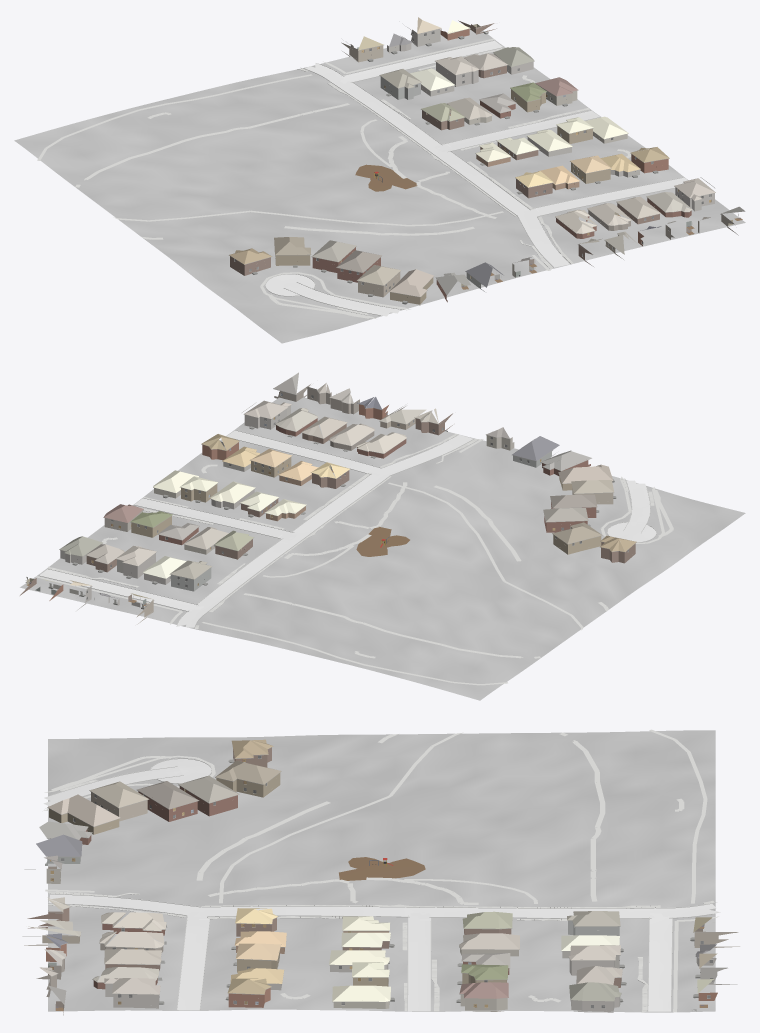
3 views of the same model, one above another, from view 1: azimuth 30°, elevation 25°; view 2: azimuth 150°, elevation 25°; view 3: azimuth 270°, elevation 25° (orthographic). The views are drawn at different scales.
Visible parts, largest first — view 1: ground, roof, concrete, walk, wall, detail, wall_stone, wall_stucco, curb; view 2: ground, roof, concrete, wall, walk, detail, wall_stucco, curb, wall_stone; view 3: ground, roof, concrete, walk, wall, detail, wall_stucco, curb, wall_stone.
Boxes of the visible parts, left/top/right/bottom form: ground: left=14, top=29, right=745, bottom=343; roof: left=229, top=17, right=745, bottom=296; concrete: left=265, top=40, right=687, bottom=316; walk: left=37, top=38, right=631, bottom=318; wall: left=230, top=20, right=738, bottom=305; detail: left=229, top=25, right=738, bottom=304; wall_stone: left=387, top=29, right=714, bottom=211; wall_stucco: left=341, top=42, right=627, bottom=297; curb: left=265, top=40, right=684, bottom=315; ground: left=20, top=397, right=745, bottom=700; roof: left=43, top=372, right=636, bottom=599; concrete: left=39, top=430, right=656, bottom=627; wall: left=20, top=384, right=635, bottom=600; walk: left=35, top=433, right=673, bottom=685; detail: left=25, top=386, right=636, bottom=609; wall_stucco: left=104, top=435, right=613, bottom=624; curb: left=38, top=430, right=656, bottom=628; wall_stone: left=60, top=405, right=290, bottom=610; ground: left=48, top=730, right=715, bottom=1012; roof: left=28, top=739, right=717, bottom=1004; concrete: left=43, top=759, right=720, bottom=1011; walk: left=42, top=729, right=718, bottom=1012; wall: left=24, top=747, right=717, bottom=1015; detail: left=22, top=743, right=737, bottom=1011; wall_stucco: left=45, top=792, right=739, bottom=1011; curb: left=45, top=758, right=717, bottom=1010; wall_stone: left=105, top=951, right=737, bottom=1012.
Size of the model in its own units: 259 by 14.37 by 274.
